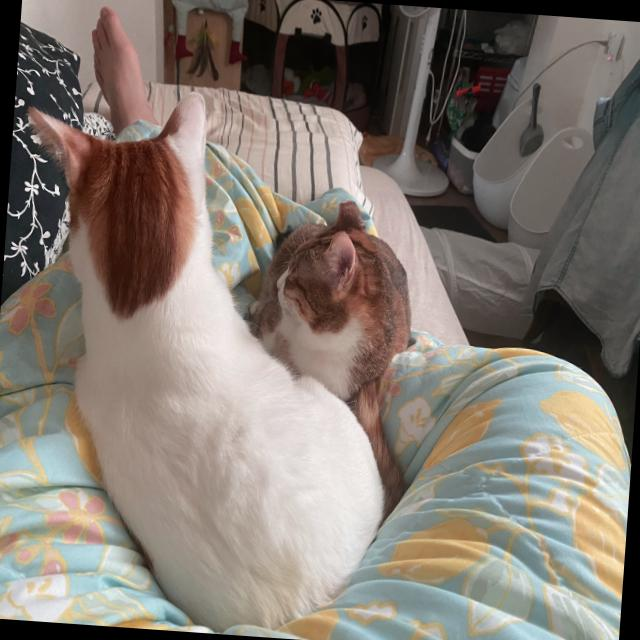cat1: (0, 80, 427, 640)
cat2: (240, 188, 420, 408)
